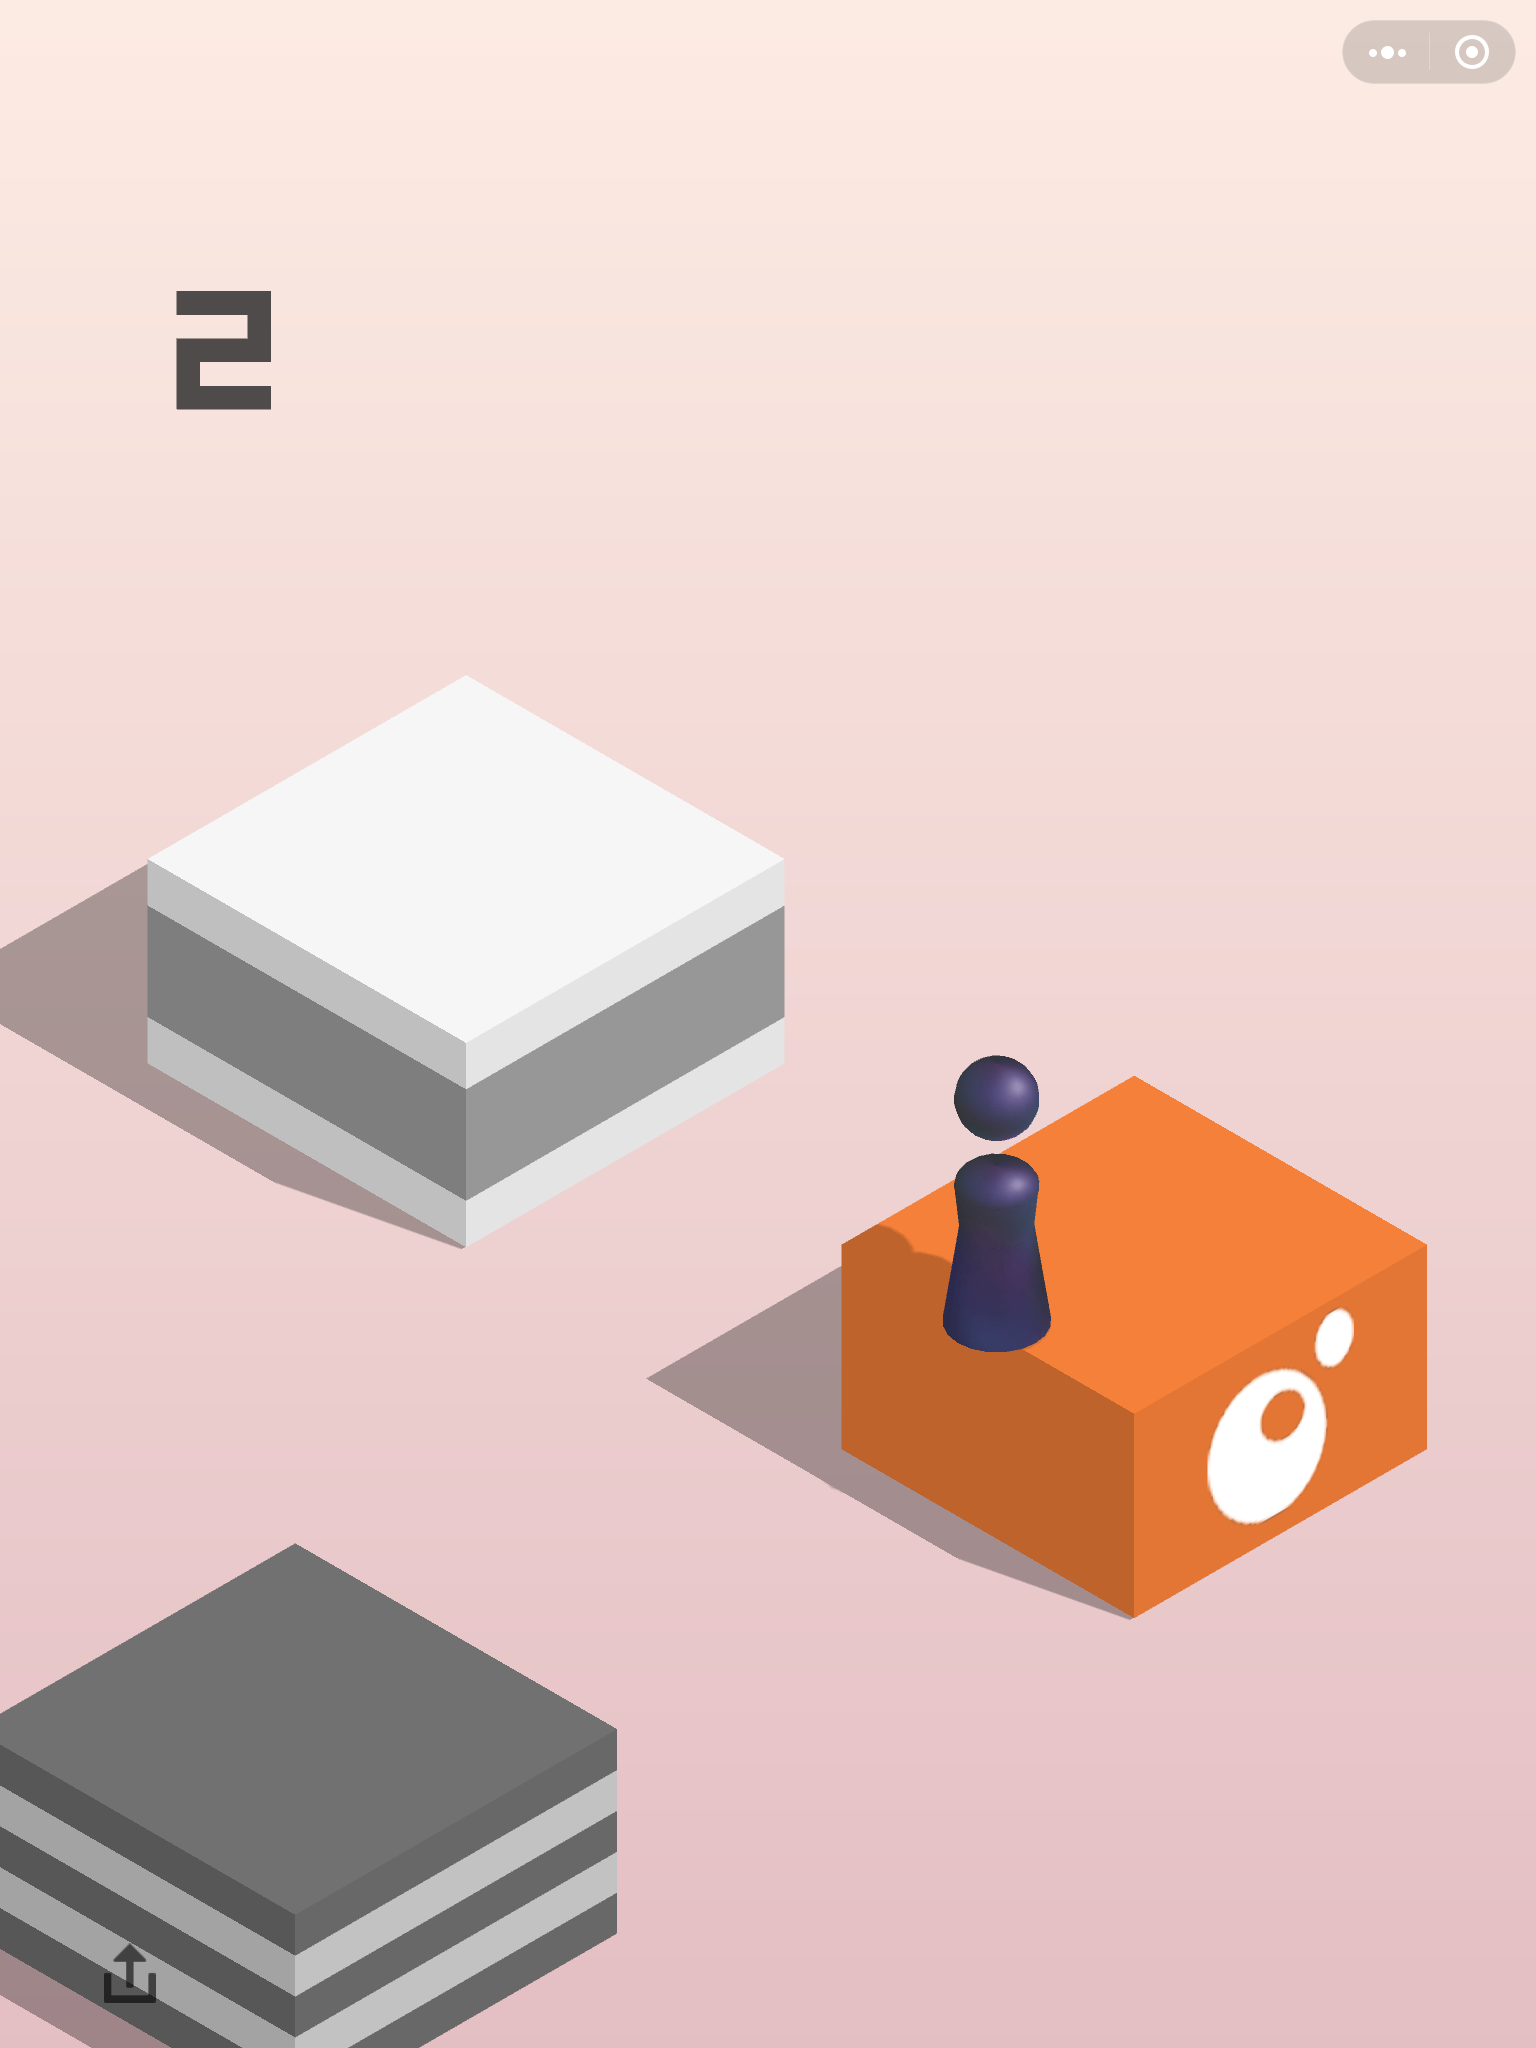f: (136, 672, 792, 1259), (834, 1072, 1430, 1624), (3, 1542, 620, 2048)
r: (936, 1047, 1055, 1356)
